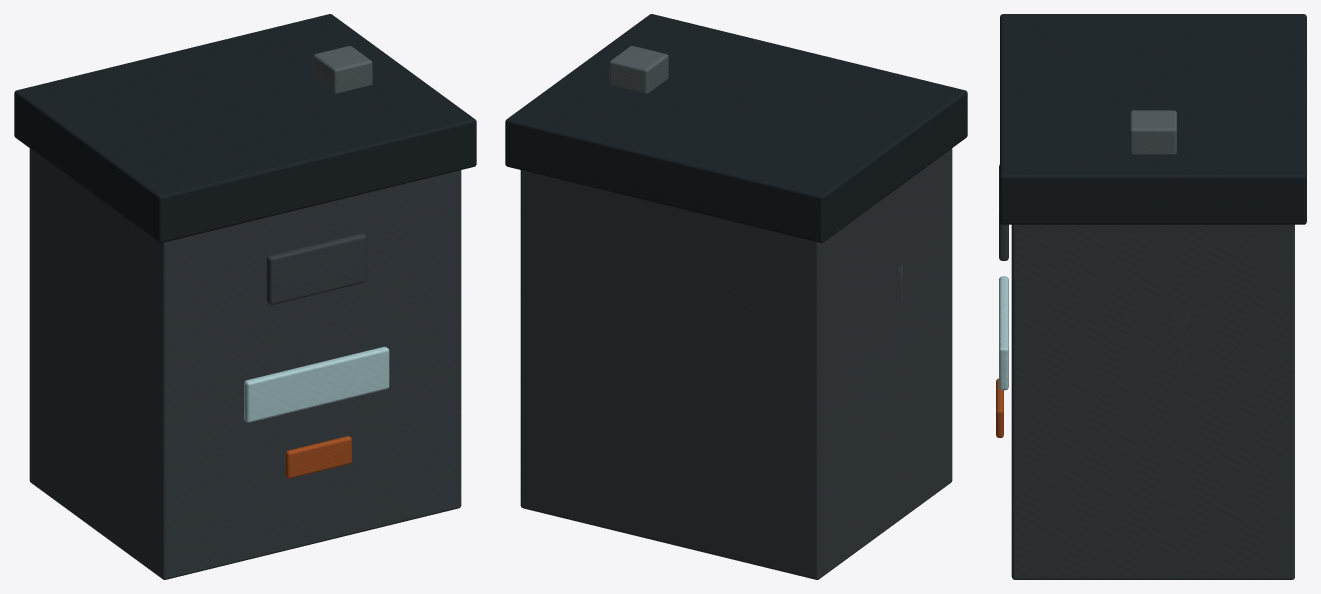
File: MobileCryogenicCase.fbx
3 views of the same model, side by side, from view 1: azimuth 30°, elevation 25°; view 2: azimuth 150°, elevation 25°; view 3: azimuth 270°, elevation 25° (orthographic). The views are drawn at different scales.
Parts seen in each view (by area): view 1: MobileCryogenicCase_Mesh; view 2: MobileCryogenicCase_Mesh; view 3: MobileCryogenicCase_Mesh.
Part boxes in pixels (<box>): MobileCryogenicCase_Mesh: <box>14,14,476,579</box>; MobileCryogenicCase_Mesh: <box>505,14,967,579</box>; MobileCryogenicCase_Mesh: <box>996,14,1306,579</box>.
Bounding box in the file's own units: 98 × 122 × 79.
